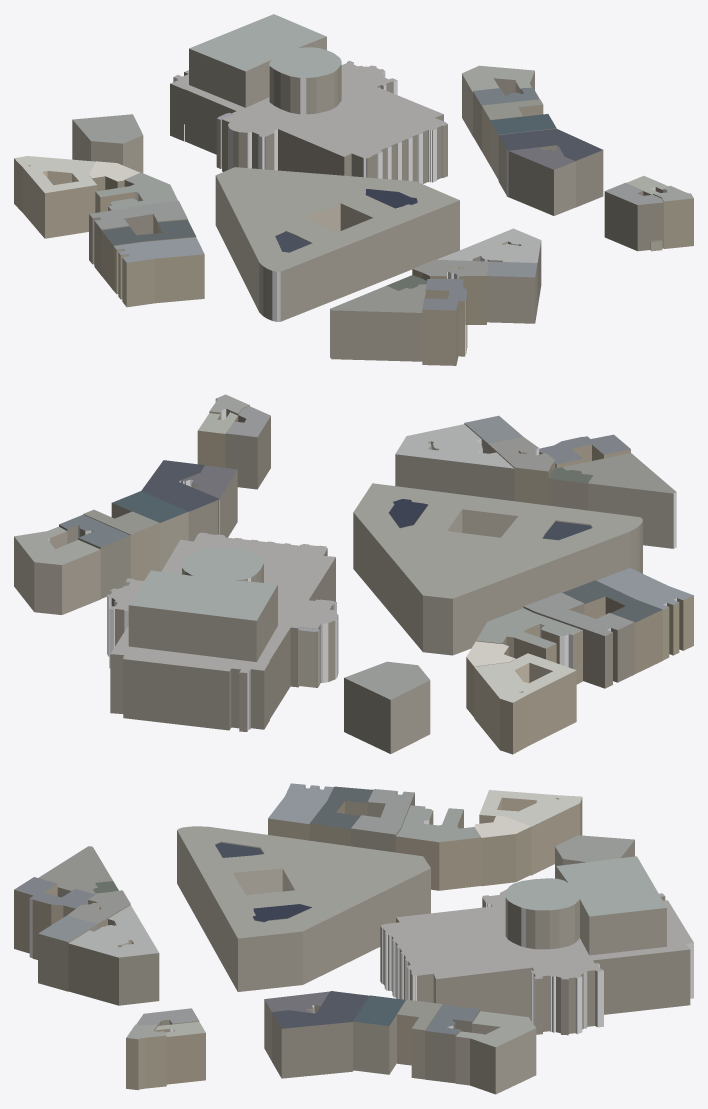
3 renders of one model, top to bottom at view 1: azimuth 30°, elevation 25°; view 2: azimuth 150°, elevation 25°; view 3: azimuth 270°, elevation 25°, orthographic. The views are drawn at different scales.
Parts seen in each view (by area): view 1: tuile; view 2: tuile; view 3: tuile.
Part boxes in pixels (<box>): tuile: <box>14,14,693,365</box>; tuile: <box>14,394,693,754</box>; tuile: <box>14,783,693,1094</box>.
Bounding box in the file's own units: 281 × 52.46 × 307.
